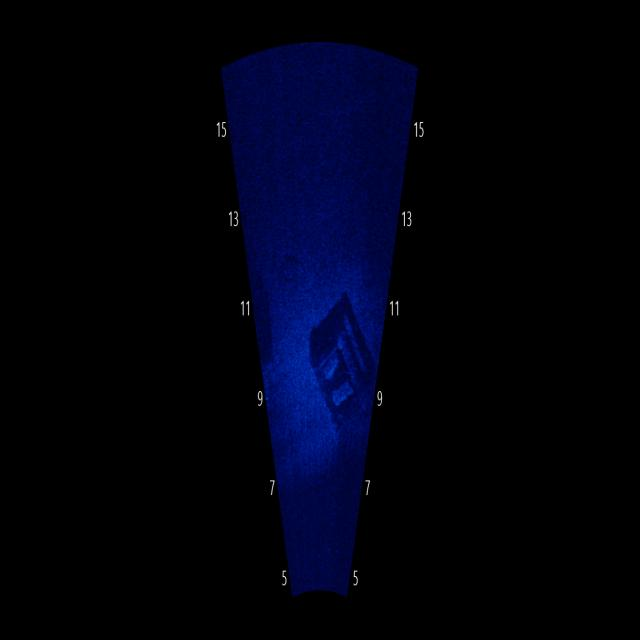square: (298, 263, 374, 444)
